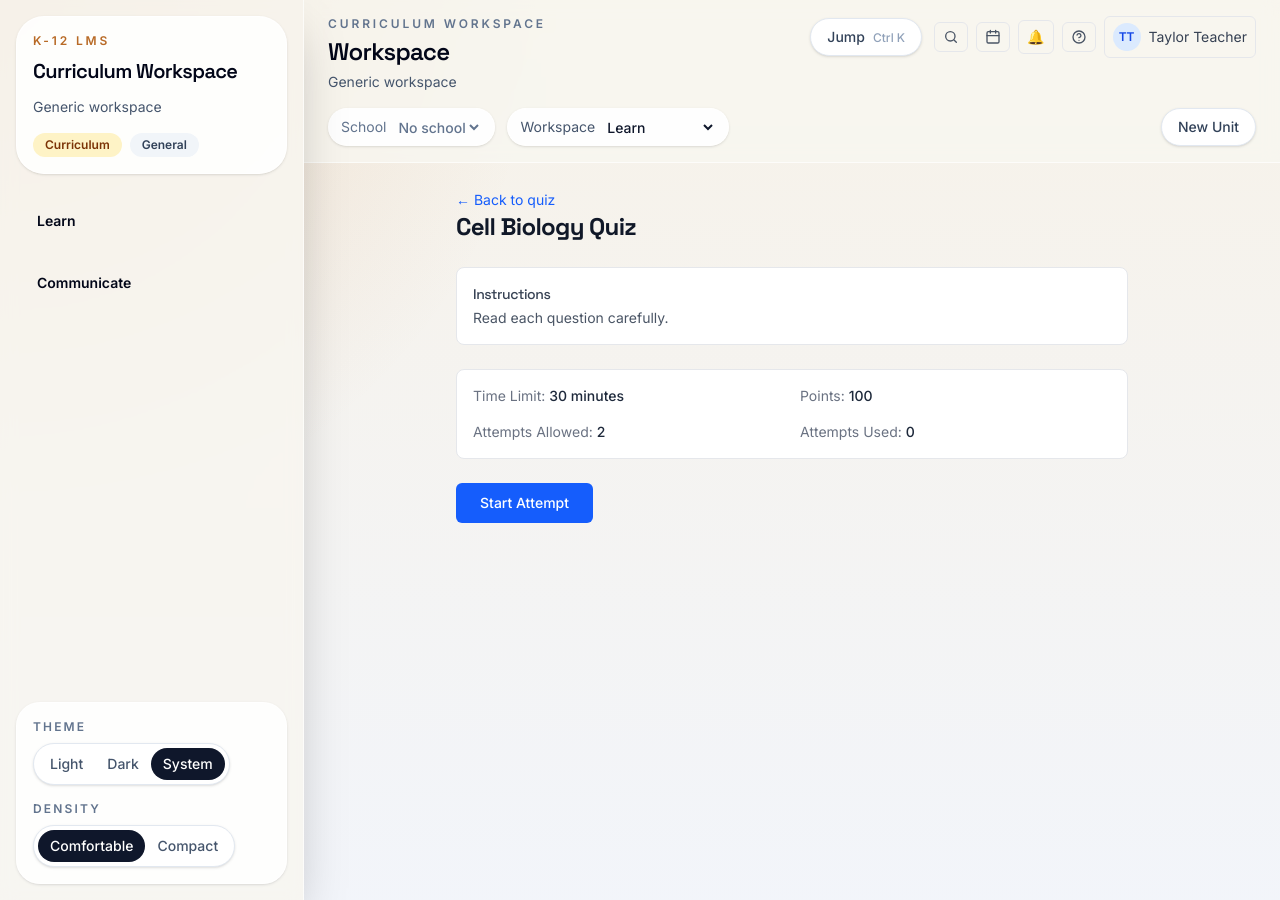
Test: Quiz Attempt Page › shows an error when attempt start fails
Click the button "Start Attempt". click: (524, 503)
box: left=456, top=483, right=593, bottom=523
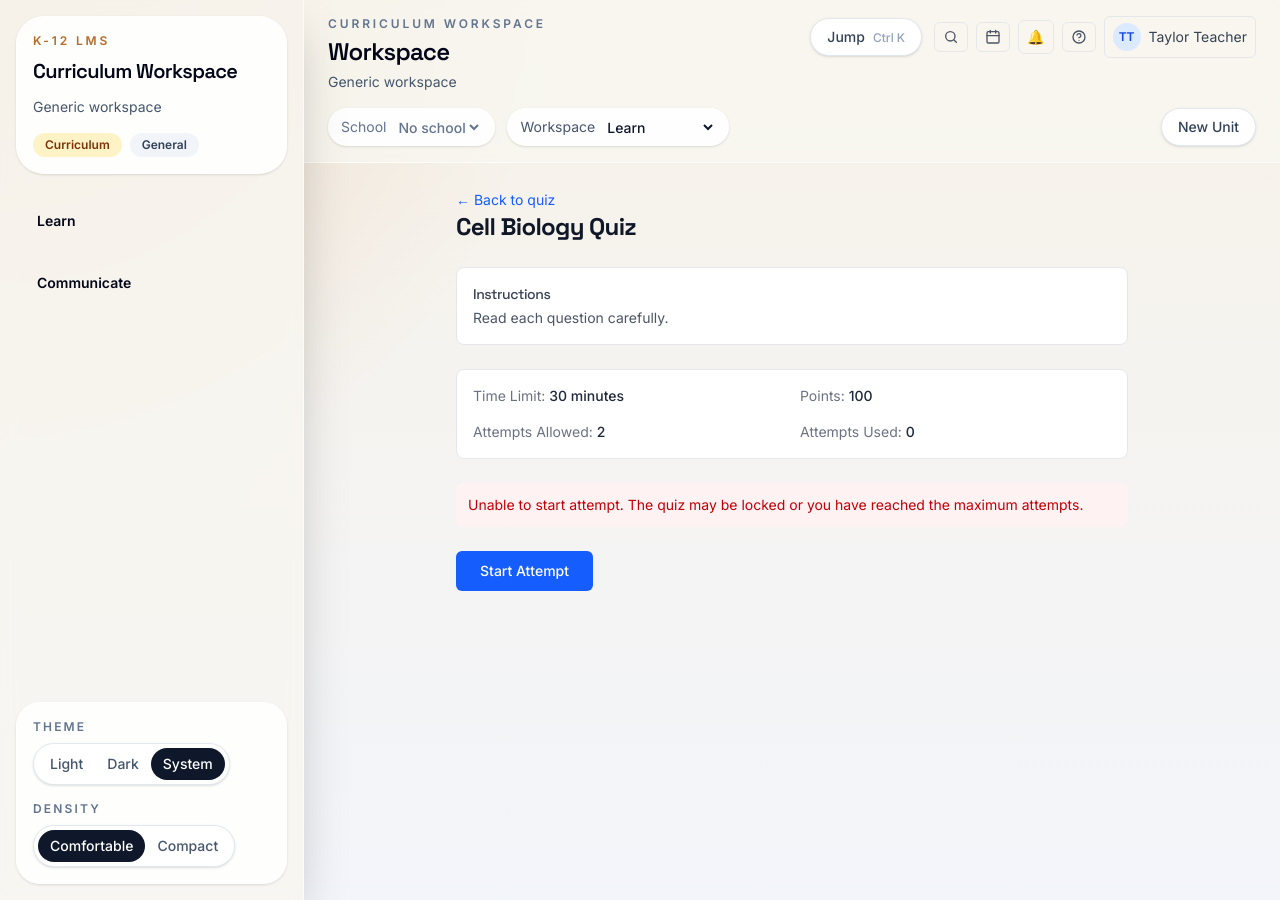
Now the text "Unable to start attempt. The quiz may be locked" is shown, box left=468, top=496, right=1084, bottom=513
